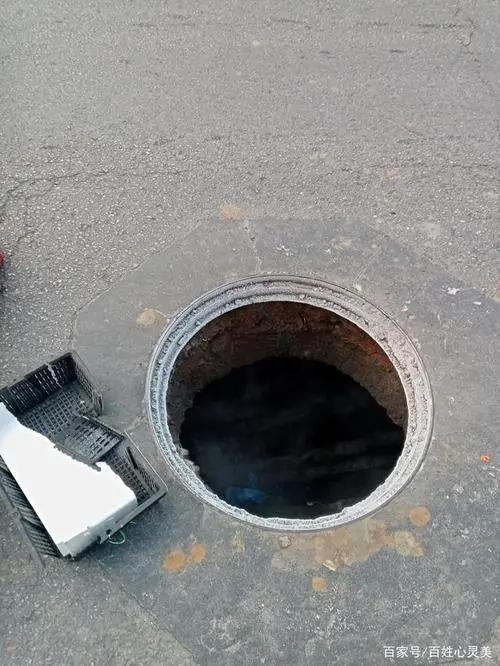wellcover: (148, 270, 433, 530)
